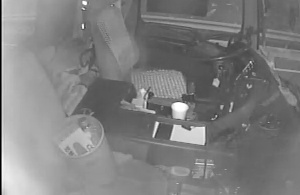cup: (170, 101, 188, 120)
